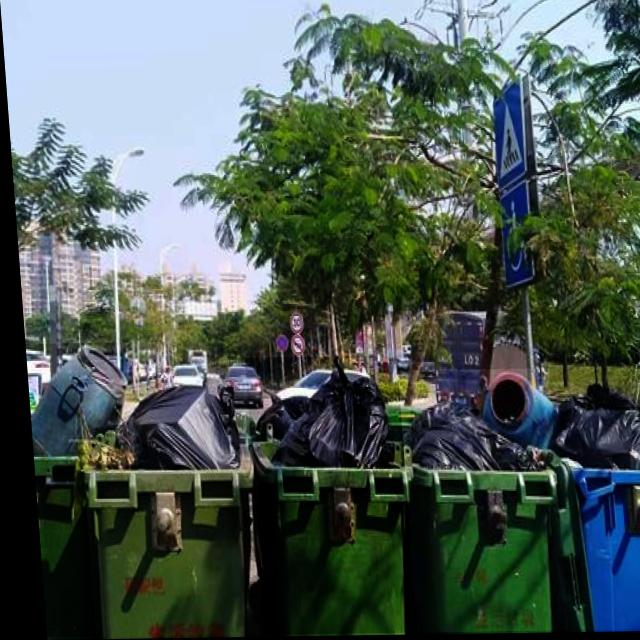overflow: (239, 357, 413, 635), (71, 382, 253, 638), (392, 370, 558, 634), (20, 343, 133, 637), (544, 383, 640, 632)
